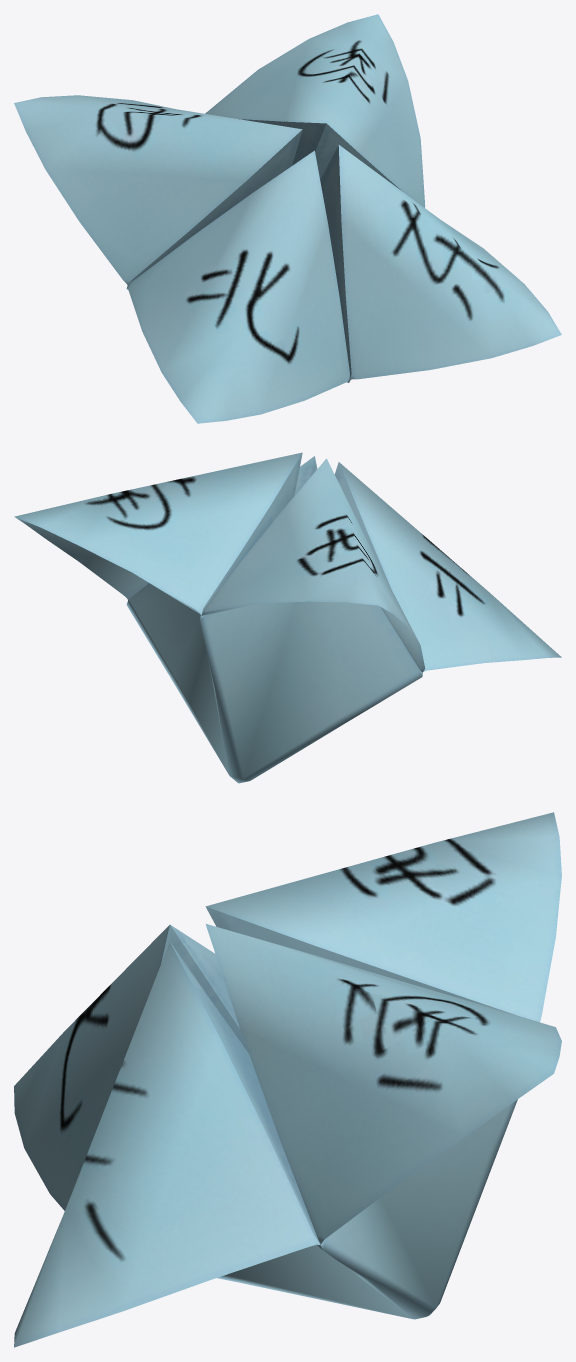
The model's file is GTPaperFortune.glb.
3 views of the same model, one above another, from view 1: azimuth 30°, elevation 25°; view 2: azimuth 150°, elevation 25°; view 3: azimuth 270°, elevation 25° (orthographic). The views are drawn at different scales.
Parts seen in each view (by area): view 1: DNXB; view 2: DNXB; view 3: DNXB.
Part boxes in pixels (x1,y1,x2,y2): DNXB: [14, 14, 561, 423]; DNXB: [14, 452, 561, 783]; DNXB: [14, 812, 561, 1347].
Size of the model in its own units: 1.29 by 0.9144 by 1.13.
Materials: 1 (1 with a texture image).
